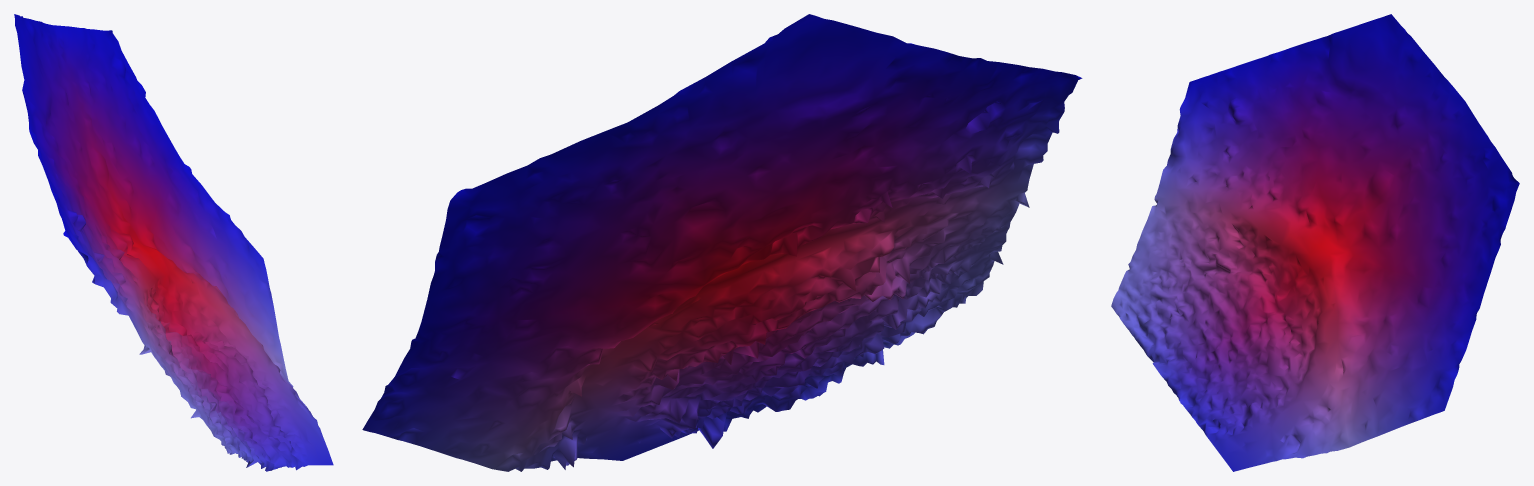
File: Hex_04.fbx
The picture shows the model from 3 angles, left to right: view 1: azimuth 30°, elevation 25°; view 2: azimuth 150°, elevation 25°; view 3: azimuth 270°, elevation 25°; orthographic projection. The views are drawn at different scales.
Parts seen in each view (by area): view 1: Hex_04; view 2: Hex_04; view 3: Hex_04.
Boxes of the visible parts, bbox=[...] form: Hex_04: bbox=[14, 14, 333, 471]; Hex_04: bbox=[362, 14, 1082, 471]; Hex_04: bbox=[1111, 14, 1519, 471].
Bounding box in the file's own units: 368 × 437 × 442.
